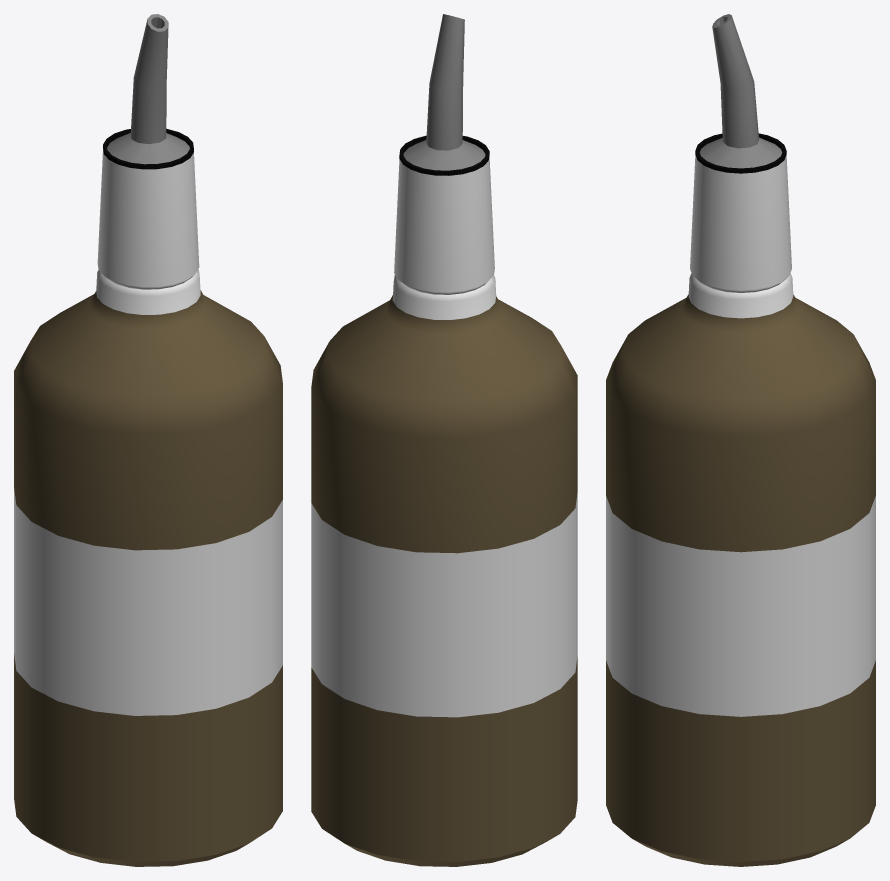
File: purrsecco.fbx
The picture shows the model from 3 angles, left to right: view 1: azimuth 30°, elevation 25°; view 2: azimuth 150°, elevation 25°; view 3: azimuth 270°, elevation 25°; orthographic projection.
Visible parts, largest first — view 1: pCylinder1; view 2: pCylinder1; view 3: pCylinder1.
Boxes of the visible parts, x1,y1,x2,y2 form: pCylinder1: (14,14,282,866); pCylinder1: (311,14,577,866); pCylinder1: (606,14,875,866).
Bounding box in the file's own units: 1.15 × 3.8 × 1.16.
